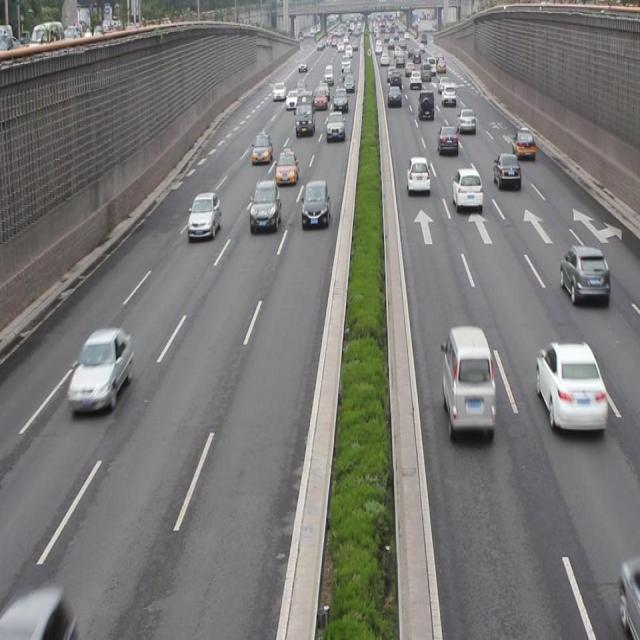car: (534, 340, 607, 433), (69, 325, 132, 411), (0, 580, 66, 640), (558, 245, 609, 304), (249, 178, 281, 231), (188, 189, 221, 240), (300, 179, 330, 231), (450, 167, 482, 210), (491, 152, 521, 190), (405, 154, 430, 192), (275, 147, 298, 188), (510, 127, 535, 159), (251, 131, 273, 166), (437, 123, 458, 157), (325, 109, 344, 142), (456, 105, 475, 133)
truck: (441, 324, 494, 432), (295, 88, 316, 136)
